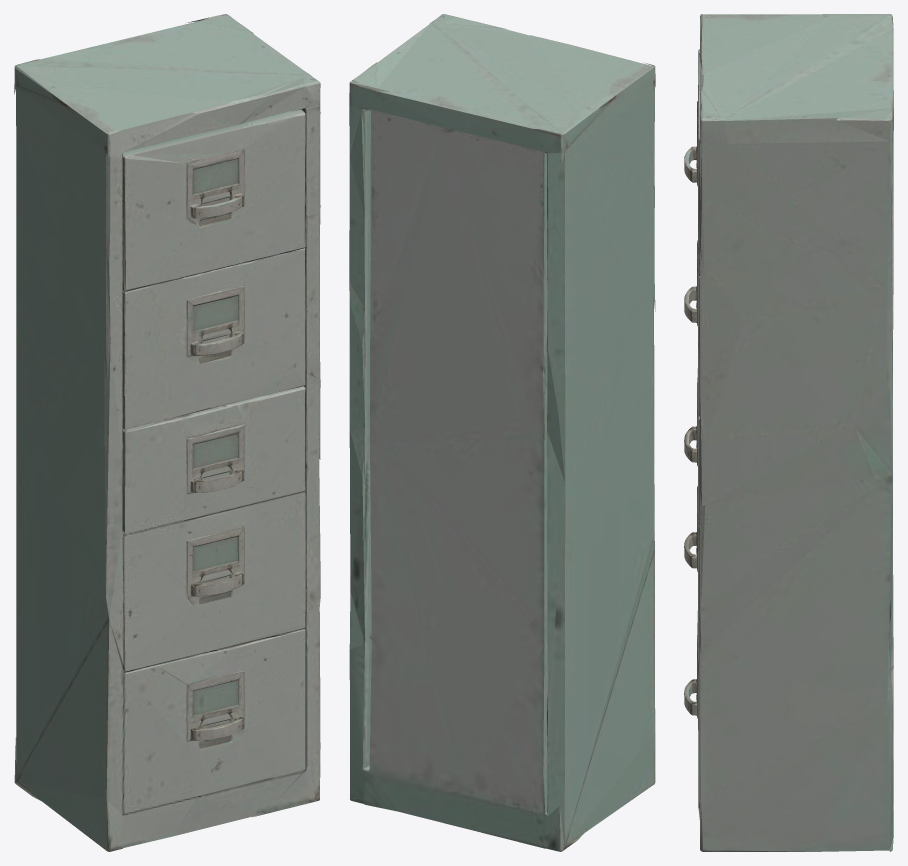
The model's file is schedario_vero_B.glb.
The picture shows the model from 3 angles, left to right: view 1: azimuth 30°, elevation 25°; view 2: azimuth 150°, elevation 25°; view 3: azimuth 270°, elevation 25°; orthographic projection.
Visible parts, largest first — view 1: Mesh_0; view 2: Mesh_0; view 3: Mesh_0.
Part boxes in pixels (x1,y1,x2,y2): Mesh_0: (14, 14, 320, 851); Mesh_0: (349, 14, 655, 851); Mesh_0: (684, 14, 893, 851).
Bounding box in the file's own units: 0.4199 × 1.35 × 0.3498.
Materials: 1 (1 with a texture image).
